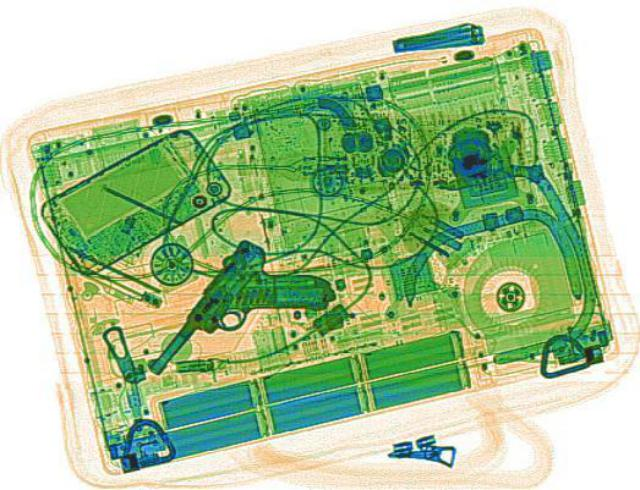Gun: (138, 238, 346, 408)
